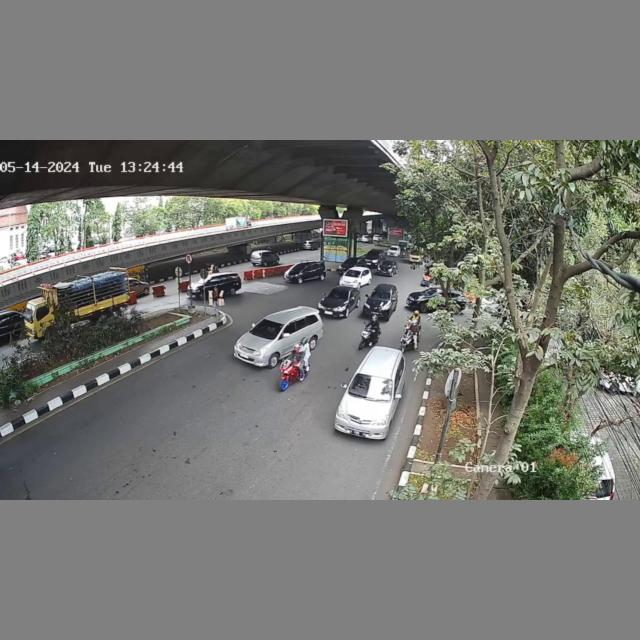windshield: (352, 373, 390, 400), (251, 319, 284, 340), (326, 288, 349, 299), (371, 289, 390, 300)
